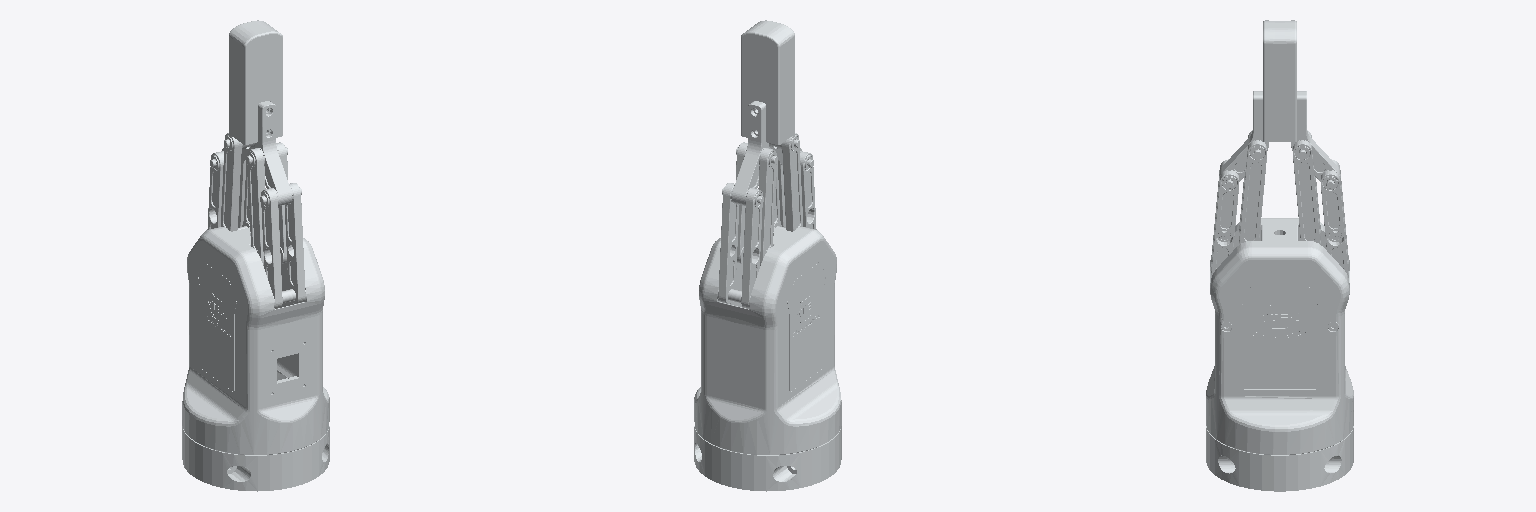
The robot description file, URDF, robot "crt_ctag2f90c":
<?xml version="1.0" encoding="utf-8"?>
<!-- This URDF was automatically created by SolidWorks to URDF Exporter! Originally created by Stephen Brawner (brawner@gmail.com) 
     Commit Version: 1.6.0-4-g7f85cfe  Build Version: 1.6.7995.38578
     For more information, please see http://wiki.ros.org/sw_urdf_exporter -->
<!-- Changingtek AG2F90-C gripper (ctag2f90c), vendored from the manufacturer's
     crt_ctag2f90c_gripper_visualization ROS package (BSD, ROS-Industrial; see
     meshes/ctag2f90c/LICENSE). Local changes: mesh URIs point at this package, and the
     limits of the mimic joints are widened from 0..0 to the range their mimic
     multiplier produces so URDF loaders that clamp mimic values do not freeze them.
     Left_1_Joint (0..1 rad) is the only driving joint; all other moving joints mimic it. -->
<robot
  name="crt_ctag2f90c">
  <link
    name="base_link">
    <inertial>
      <origin
        xyz="-3.03438666080911E-05 0.000164444408216863 0.0415501043891079"
        rpy="0 0 0" />
      <mass
        value="0.310178508912656" />
      <inertia
        ixx="0.00040397991189065"
        ixy="-7.67071063755645E-08"
        ixz="-4.8034277809683E-08"
        iyy="0.000296362927485086"
        iyz="2.37380471524215E-07"
        izz="0.000212128802807125" />
    </inertial>
    <visual>
      <origin
        xyz="0 0 0"
        rpy="0 0 0" />
      <geometry>
        <mesh
          filename="package://rm65_description/meshes/ctag2f90c/base_link.STL" />
      </geometry>
      <material
        name="">
        <color
          rgba="0.898039215686275 0.917647058823529 0.929411764705882 1" />
      </material>
    </visual>
    <collision>
      <origin
        xyz="0 0 0"
        rpy="0 0 0" />
      <geometry>
        <mesh
          filename="package://rm65_description/meshes/ctag2f90c/base_link.STL" />
      </geometry>
    </collision>
  </link>
  <link
    name="Left_1_Link">
    <inertial>
      <origin
        xyz="-9.28680668570248E-19 0.030539291459314 -0.00258607700367608"
        rpy="0 0 0" />
      <mass
        value="0.0143082868091883" />
      <inertia
        ixx="3.13950698375337E-06"
        ixy="-1.52080132643556E-23"
        ixz="6.91547980628378E-24"
        iyy="1.68765500467537E-07"
        iyz="2.43038947287639E-07"
        izz="3.01776984338656E-06" />
    </inertial>
    <visual>
      <origin
        xyz="0 0 0"
        rpy="0 0 0" />
      <geometry>
        <mesh
          filename="package://rm65_description/meshes/ctag2f90c/Left_1_Link.STL" />
      </geometry>
      <material
        name="">
        <color
          rgba="0.898039215686275 0.917647058823529 0.929411764705882 1" />
      </material>
    </visual>
    <collision>
      <origin
        xyz="0 0 0"
        rpy="0 0 0" />
      <geometry>
        <mesh
          filename="package://rm65_description/meshes/ctag2f90c/Left_1_Link.STL" />
      </geometry>
    </collision>
  </link>
  <joint
    name="Left_1_Joint"
    type="revolute">
    <origin
      xyz="0 -0.030141 0.090147"
      rpy="1.5708 0 0" />
    <parent
      link="base_link" />
    <child
      link="Left_1_Link" />
    <axis
      xyz="1 0 0" />
    <limit
      lower="0"
      upper="1"
      effort="2"
      velocity="1000" />
  </joint>
  <link
    name="Left_Support_Link">
    <inertial>
      <origin
        xyz="1.07295456192646E-10 0.0151471213709181 -0.00881425056266623"
        rpy="0 0 0" />
      <mass
        value="0.0119105654270604" />
      <inertia
        ixx="2.29855296669515E-06"
        ixy="3.52760274833619E-14"
        ixz="-4.83144274478498E-15"
        iyy="5.66006626841495E-07"
        iyz="6.96553660909406E-07"
        izz="2.02879732303575E-06" />
    </inertial>
    <visual>
      <origin
        xyz="0 0 0"
        rpy="0 0 0" />
      <geometry>
        <mesh
          filename="package://rm65_description/meshes/ctag2f90c/Left_Support_Link.STL" />
      </geometry>
      <material
        name="">
        <color
          rgba="0.898039215686275 0.917647058823529 0.929411764705882 1" />
      </material>
    </visual>
    <collision>
      <origin
        xyz="0 0 0"
        rpy="0 0 0" />
      <geometry>
        <mesh
          filename="package://rm65_description/meshes/ctag2f90c/Left_Support_Link.STL" />
      </geometry>
    </collision>
  </link>
  <joint
    name="Left_Support_Joint"
    type="revolute">
    <origin
      xyz="0 0.054804 -0.0046413"
      rpy="0 0 0" />
    <parent
      link="Left_1_Link" />
    <child
      link="Left_Support_Link" />
    <axis
      xyz="-1 0 0" />
    <limit
      lower="0"
      upper="1"
      effort="0"
      velocity="0" />
    <mimic
      joint="Left_1_Joint"
      multiplier="1"
      offset="0" />
  </joint>
  <link
    name="Left_Pad_Link">
    <inertial>
      <origin
        xyz="-6.16776893223986E-16 0.00343564941025751 0.00291131442785867"
        rpy="0 0 0" />
      <mass
        value="0.028983148227117" />
      <inertia
        ixx="8.29474554098334E-06"
        ixy="-1.89994985124349E-21"
        ixz="-8.69955081865361E-20"
        iyy="1.40034188740669E-06"
        iyz="-3.29382180279853E-08"
        izz="9.56613605828327E-06" />
    </inertial>
    <visual>
      <origin
        xyz="0 0 0"
        rpy="0 0 0" />
      <geometry>
        <mesh
          filename="package://rm65_description/meshes/ctag2f90c/Left_Pad_Link.STL" />
      </geometry>
      <material
        name="">
        <color
          rgba="0.898039215686275 0.917647058823529 0.929411764705882 1" />
      </material>
    </visual>
    <collision>
      <origin
        xyz="0 0 0"
        rpy="0 0 0" />
      <geometry>
        <mesh
          filename="package://rm65_description/meshes/ctag2f90c/Left_Pad_Link.STL" />
      </geometry>
    </collision>
  </link>
  <joint
    name="Left_Pad_Joint"
    type="fixed">
    <origin
      xyz="0 0.0515 -0.02425"
      rpy="0 0 0" />
    <parent
      link="Left_Support_Link" />
    <child
      link="Left_Pad_Link" />
    <axis
      xyz="0 0 0" />
  </joint>
  <link
    name="Left_2_Link">
    <inertial>
      <origin
        xyz="-9.64455187140789E-18 0.0335366982007761 -0.00283988029070185"
        rpy="0 0 0" />
      <mass
        value="0.0171972364497243" />
      <inertia
        ixx="3.15392174079445E-06"
        ixy="-7.65628822295208E-24"
        ixz="6.80209220247533E-22"
        iyy="2.70902150111044E-07"
        iyz="2.43381350518246E-07"
        izz="3.123872461982E-06" />
    </inertial>
    <visual>
      <origin
        xyz="0 0 0"
        rpy="0 0 0" />
      <geometry>
        <mesh
          filename="package://rm65_description/meshes/ctag2f90c/Left_2_Link.STL" />
      </geometry>
      <material
        name="">
        <color
          rgba="0.898039215686275 0.917647058823529 0.929411764705882 1" />
      </material>
    </visual>
    <collision>
      <origin
        xyz="0 0 0"
        rpy="0 0 0" />
      <geometry>
        <mesh
          filename="package://rm65_description/meshes/ctag2f90c/Left_2_Link.STL" />
      </geometry>
    </collision>
  </link>
  <joint
    name="Left_2_Joint"
    type="revolute">
    <origin
      xyz="0 -0.016 0.107"
      rpy="1.5708 0 0" />
    <parent
      link="base_link" />
    <child
      link="Left_2_Link" />
    <axis
      xyz="-1 0 0" />
    <limit
      lower="-1"
      upper="0"
      effort="0"
      velocity="0" />
    <mimic
      joint="Left_1_Joint"
      multiplier="-1"
      offset="0" />
  </joint>
    <link
    name="Right_1_Link">
    <inertial>
      <origin
        xyz="-2.12745571485216E-18 0.0305392914593139 -0.00258607700367608"
        rpy="0 0 0" />
      <mass
        value="0.0143082868091883" />
      <inertia
        ixx="3.13950698375336E-06"
        ixy="4.14549273924351E-23"
        ixz="2.42807909542875E-24"
        iyy="1.68765500467537E-07"
        iyz="2.43038947287639E-07"
        izz="3.01776984338656E-06" />
    </inertial>
    <visual>
      <origin
        xyz="0 0 0"
        rpy="0 0 0" />
      <geometry>
        <mesh
          filename="package://rm65_description/meshes/ctag2f90c/Right_1_Link.STL" />
      </geometry>
      <material
        name="">
        <color
          rgba="0.898039215686275 0.917647058823529 0.929411764705882 1" />
      </material>
    </visual>
    <collision>
      <origin
        xyz="0 0 0"
        rpy="0 0 0" />
      <geometry>
        <mesh
          filename="package://rm65_description/meshes/ctag2f90c/Right_1_Link.STL" />
      </geometry>
    </collision>
  </link>
  <joint
    name="Right_1_Joint"
    type="revolute">
    <origin
      xyz="0 0.030141 0.090147"
      rpy="1.5708 0 3.1416" />
    <parent
      link="base_link" />
    <child
      link="Right_1_Link" />
    <axis
      xyz="1 0 0" />
    <limit
      lower="0"
      upper="1"
      effort="2"
      velocity="1000" />
    <mimic
      joint="Left_1_Joint"
      multiplier="1"
      offset="0" />
  </joint>
  <link
    name="Right_2_Link">
    <inertial>
      <origin
        xyz="1.23073470736957E-17 0.033536698200776 -0.00283988029070186"
        rpy="0 0 0" />
      <mass
        value="0.0171972364497243" />
      <inertia
        ixx="3.15392174079445E-06"
        ixy="3.99539849237237E-23"
        ixz="-6.94115744711518E-22"
        iyy="2.70902150111044E-07"
        iyz="2.43381350518245E-07"
        izz="3.123872461982E-06" />
    </inertial>
    <visual>
      <origin
        xyz="0 0 0"
        rpy="0 0 0" />
      <geometry>
        <mesh
          filename="package://rm65_description/meshes/ctag2f90c/Right_2_Link.STL" />
      </geometry>
      <material
        name="">
        <color
          rgba="0.898039215686275 0.917647058823529 0.929411764705882 1" />
      </material>
    </visual>
    <collision>
      <origin
        xyz="0 0 0"
        rpy="0 0 0" />
      <geometry>
        <mesh
          filename="package://rm65_description/meshes/ctag2f90c/Right_2_Link.STL" />
      </geometry>
    </collision>
  </link>
  <joint
    name="Right_2_Joint"
    type="revolute">
    <origin
      xyz="0 0.016 0.107"
      rpy="1.5708 0 3.1416" />
    <parent
      link="base_link" />
    <child
      link="Right_2_Link" />
    <axis
      xyz="1 0 0" />
    <limit
      lower="0"
      upper="1"
      effort="0"
      velocity="0" />
    <mimic
      joint="Right_1_Joint"
      multiplier="1"
      offset="0" />
  </joint>

  <link
    name="Right_Support_Link">
    <inertial>
      <origin
        xyz="1.07297655713615E-10 0.0151471213709181 -0.00881425056266621"
        rpy="0 0 0" />
      <mass
        value="0.0119105654270604" />
      <inertia
        ixx="2.29855296669515E-06"
        ixy="3.52761223264558E-14"
        ixz="-4.83149321191609E-15"
        iyy="5.66006626841495E-07"
        iyz="6.96553660909407E-07"
        izz="2.02879732303575E-06" />
    </inertial>
    <visual>
      <origin
        xyz="0 0 0"
        rpy="0 0 0" />
      <geometry>
        <mesh
          filename="package://rm65_description/meshes/ctag2f90c/Right_Support_Link.STL" />
      </geometry>
      <material
        name="">
        <color
          rgba="0.898039215686275 0.917647058823529 0.929411764705882 1" />
      </material>
    </visual>
    <collision>
      <origin
        xyz="0 0 0"
        rpy="0 0 0" />
      <geometry>
        <mesh
          filename="package://rm65_description/meshes/ctag2f90c/Right_Support_Link.STL" />
      </geometry>
    </collision>
  </link>
  <joint
    name="Right_Support_Joint"
    type="revolute">
    <origin
      xyz="0 0.054804 -0.0046413"
      rpy="0 0 0" />
    <parent
      link="Right_1_Link" />
    <child
      link="Right_Support_Link" />
    <axis
      xyz="-1 0 0" />
    <limit
      lower="0"
      upper="1"
      effort="0"
      velocity="0" />
    <mimic
      joint="Right_1_Joint"
      multiplier="1"
      offset="0" />
  </joint>
  <link
    name="Right_Pad_Link">
    <inertial>
      <origin
        xyz="-1.50137447913012E-19 0.00343564941025742 0.00291131442785872"
        rpy="0 0 0" />
      <mass
        value="0.028983148227117" />
      <inertia
        ixx="8.29474554098334E-06"
        ixy="-8.85123816078709E-22"
        ixz="6.94922146887372E-24"
        iyy="1.40034188740669E-06"
        iyz="-3.29382180281129E-08"
        izz="9.56613605828327E-06" />
    </inertial>
    <visual>
      <origin
        xyz="0 0 0"
        rpy="0 0 0" />
      <geometry>
        <mesh
          filename="package://rm65_description/meshes/ctag2f90c/Right_Pad_Link.STL" />
      </geometry>
      <material
        name="">
        <color
          rgba="0.898039215686275 0.917647058823529 0.929411764705882 1" />
      </material>
    </visual>
    <collision>
      <origin
        xyz="0 0 0"
        rpy="0 0 0" />
      <geometry>
        <mesh
          filename="package://rm65_description/meshes/ctag2f90c/Right_Pad_Link.STL" />
      </geometry>
    </collision>
  </link>
  <joint
    name="Right_Pad_Joint"
    type="fixed">
    <origin
      xyz="0 0.0515 -0.02425"
      rpy="0 0 0" />
    <parent
      link="Right_Support_Link" />
    <child
      link="Right_Pad_Link" />
    <axis
      xyz="0 0 0" />
  </joint>
</robot>

--- Render facts (derived) ---
Views: 3 orthographic renders of the robot side by side, from view 1: azimuth 30°, elevation 25°; view 2: azimuth 150°, elevation 25°; view 3: azimuth 270°, elevation 25°.
Robot: crt_ctag2f90c — 9 links, 8 joints (6 revolute, 2 fixed); root link base_link; default pose: every joint at zero.
Visible links, largest first — view 1: base_link, Left_Pad_Link, Left_1_Link, Left_2_Link, Right_2_Link, Left_Support_Link, Right_1_Link, Right_Pad_Link; view 2: base_link, Right_Pad_Link, Right_1_Link, Right_2_Link, Left_2_Link, Right_Support_Link, Left_1_Link, Left_Pad_Link; view 3: base_link, Left_2_Link, Right_2_Link, Left_Pad_Link, Right_Pad_Link, Right_1_Link, Left_1_Link, Left_Support_Link, Right_Support_Link.
Boxes of the visible links, x1=… form: base_link: x1=182, y1=227, x2=329, y2=491; Left_Pad_Link: x1=236, y1=26, x2=282, y2=144; Left_1_Link: x1=261, y1=183, x2=306, y2=308; Left_2_Link: x1=246, y1=142, x2=287, y2=265; Right_2_Link: x1=221, y1=133, x2=254, y2=231; Left_Support_Link: x1=255, y1=101, x2=301, y2=205; Right_1_Link: x1=207, y1=151, x2=245, y2=229; Right_Pad_Link: x1=229, y1=20, x2=272, y2=138; base_link: x1=694, y1=227, x2=841, y2=491; Right_Pad_Link: x1=741, y1=26, x2=787, y2=144; Right_1_Link: x1=717, y1=183, x2=762, y2=308; Right_2_Link: x1=736, y1=142, x2=777, y2=265; Left_2_Link: x1=769, y1=133, x2=802, y2=231; Right_Support_Link: x1=722, y1=101, x2=768, y2=205; Left_1_Link: x1=778, y1=151, x2=816, y2=229; Left_Pad_Link: x1=751, y1=20, x2=794, y2=138; base_link: x1=1206, y1=218, x2=1353, y2=491; Left_2_Link: x1=1239, y1=130, x2=1266, y2=244; Right_2_Link: x1=1293, y1=130, x2=1320, y2=244; Left_Pad_Link: x1=1263, y1=20, x2=1279, y2=141; Right_Pad_Link: x1=1280, y1=20, x2=1296, y2=141; Right_1_Link: x1=1321, y1=159, x2=1348, y2=277; Left_1_Link: x1=1211, y1=159, x2=1238, y2=277; Left_Support_Link: x1=1220, y1=91, x2=1268, y2=188; Right_Support_Link: x1=1291, y1=91, x2=1339, y2=188.
Bounding box of the posed robot: 0.0748 × 0.075 × 0.243 m (x, y, z).
9 mesh visuals loaded from 9 distinct referenced files (9 binary STL).
